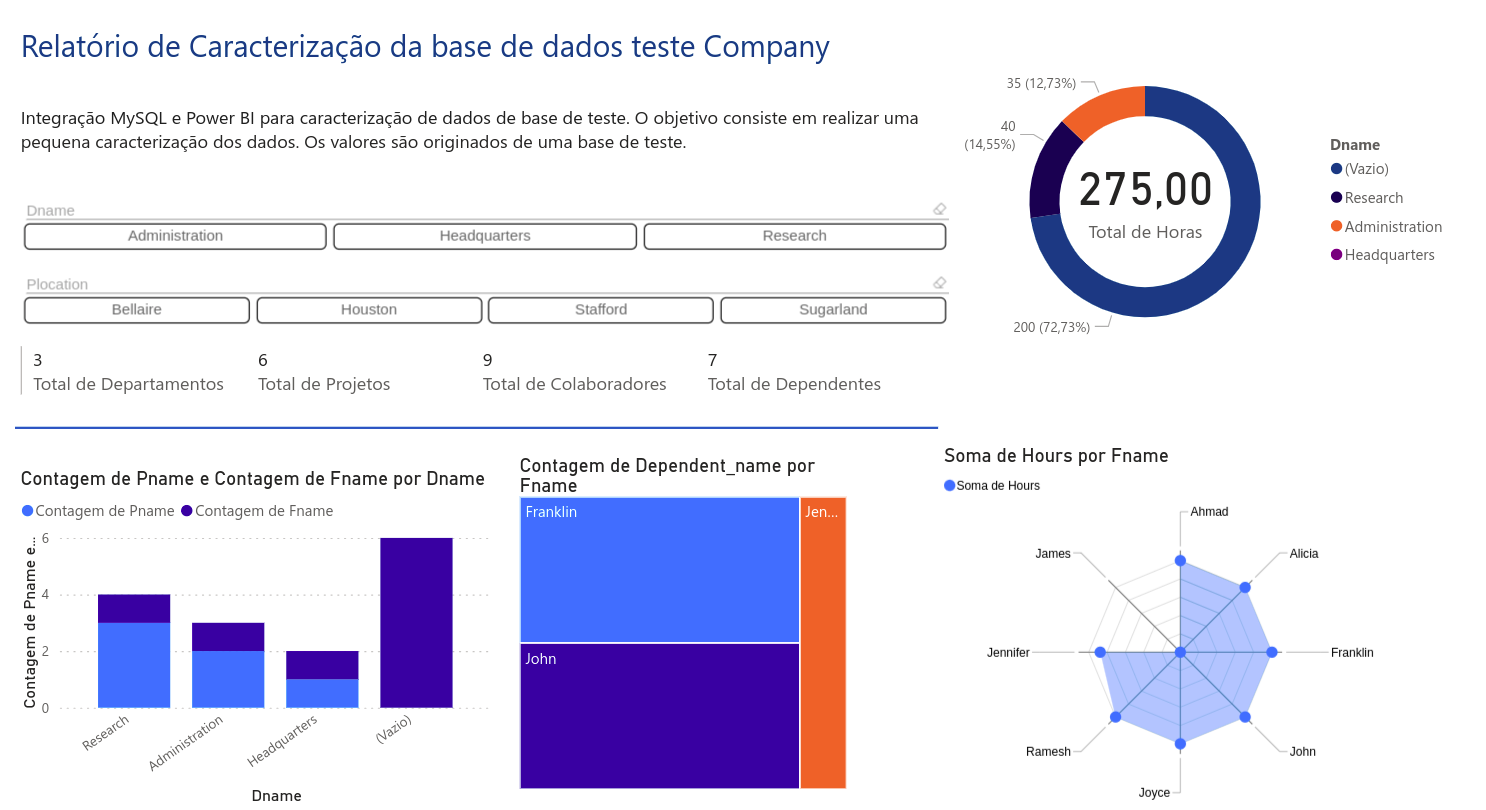

The dashboard page shown, as its layout file describes it:
{"tool":"powerbi","page":{"name":"Home","canvas":[1280,720],"ordinal":0},"visuals":[{"type":"donutChart","fields":{"Category":["company_constraints departament.Dname"],"Y":["company_constraints works_on.Hours"]},"box":[832.5,18.3,447.5,322.7],"z":0},{"type":"card","fields":{"Values":["company_constraints works_on.Hours"]},"box":[926.9,108.1,150.7,132.4],"z":1000},{"type":"treemap","fields":{"Group":["company_constraints employee.Fname"],"Values":["company_constraints dependent.Dependent_name"]},"box":[442.9,406.4,299.8,299.8],"z":2000},{"type":"columnChart","fields":{"Y":["company_constraints project.Pname","company_constraints employee.Fname"],"Category":["company_constraints departament.Dname"]},"box":[0,418.5,429.2,301.4],"z":3000},{"type":"RadarChart1446119667547","fields":{"Category":["company_constraints employee.Fname"],"Y":["company_constraints works_on.Hours"]},"box":[818.8,397.2,429.2,322.7],"z":4000},{"type":"textbox","box":[0,18.3,832.5,156.8],"z":5000},{"type":"ChicletSlicer1448559807354","fields":{"Category":["company_constraints departament.Dname"]},"box":[0,175,832.5,65.4],"z":6000},{"type":"ChicletSlicer1448559807354","fields":{"Category":["company_constraints project.Plocation"]},"box":[0,240.5,832.5,62.4],"z":7000},{"type":"multiRowCard","fields":{"Values":["company_constraints departament.Dname","company_constraints project.Pname","company_constraints employee.Fname","company_constraints dependent.Dependent_name"]},"box":[0,302.9,818.8,97.4],"z":8000},{"type":"shape","box":[0,360.7,818.8,39.6],"z":9000}]}

Visuals, with their boxes on the page's 1280x720 design canvas (x1, y1, x2, y2). These are canvas units, not pixel positions in the 1486x810 screenshot, which may show the page scaled, cropped or inside an application window:
donutChart - company_constraints departament.Dname x company_constraints works_on.Hours: x1=832, y1=18, x2=1280, y2=341
card - company_constraints works_on.Hours: x1=927, y1=108, x2=1078, y2=240
treemap - company_constraints employee.Fname x company_constraints dependent.Dependent_name: x1=443, y1=406, x2=743, y2=706
columnChart - company_constraints project.Pname x company_constraints employee.Fname: x1=0, y1=418, x2=429, y2=720
RadarChart1446119667547 - company_constraints employee.Fname x company_constraints works_on.Hours: x1=819, y1=397, x2=1248, y2=720
textbox: x1=0, y1=18, x2=832, y2=175
ChicletSlicer1448559807354 - company_constraints departament.Dname: x1=0, y1=175, x2=832, y2=240
ChicletSlicer1448559807354 - company_constraints project.Plocation: x1=0, y1=240, x2=832, y2=303
multiRowCard - company_constraints departament.Dname x company_constraints project.Pname: x1=0, y1=303, x2=819, y2=400
shape: x1=0, y1=361, x2=819, y2=400
